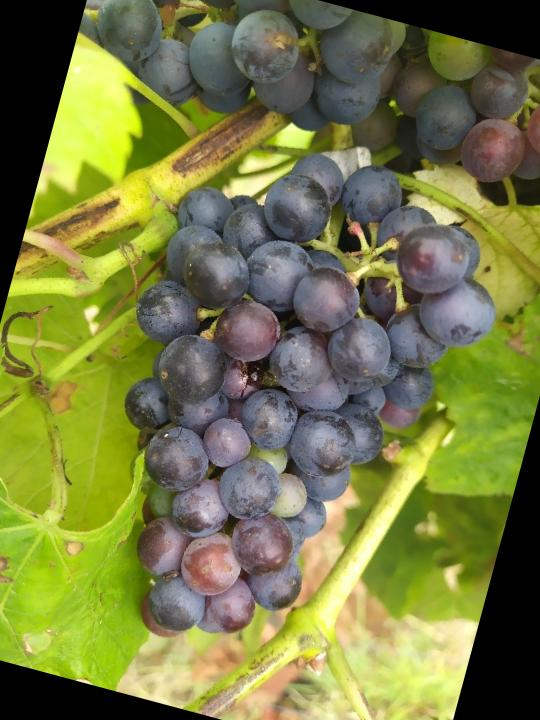grape: (47, 110, 536, 706)
